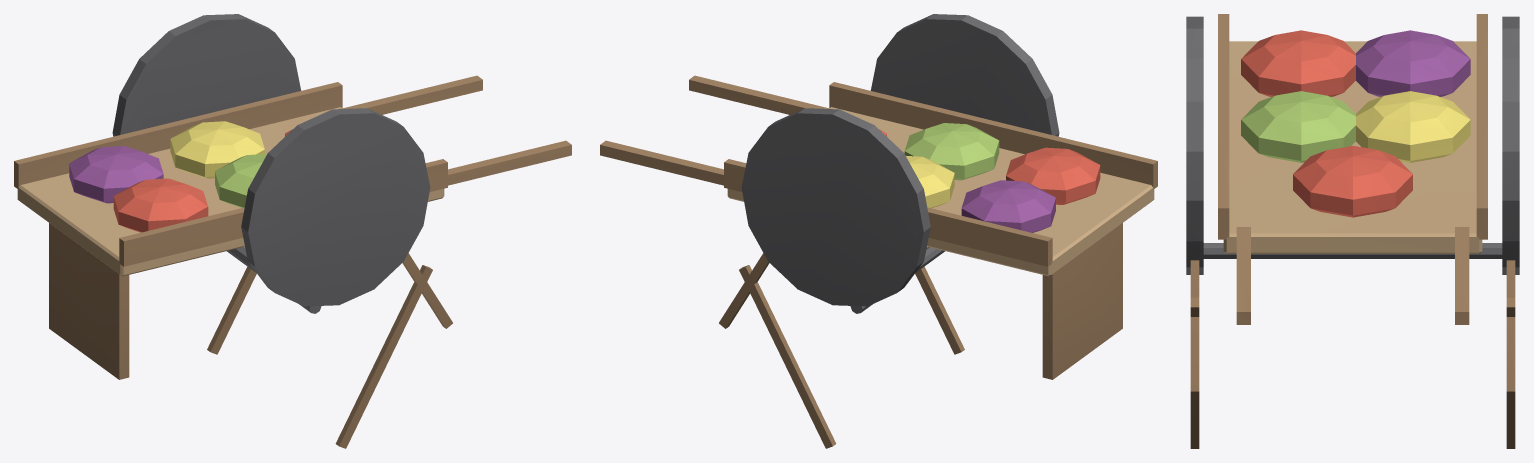
Rendered from handcart.glb.
The picture shows the model from 3 angles, left to right: view 1: azimuth 30°, elevation 25°; view 2: azimuth 150°, elevation 25°; view 3: azimuth 270°, elevation 25°; orthographic projection. The views are drawn at different scales.
Parts seen in each view (by area): view 1: Cube, wheelL_mesh, wheelR_mesh; view 2: Cube, wheelR_mesh, wheelL_mesh; view 3: Cube, wheelL_mesh, wheelR_mesh.
Boxes of the visible parts, x1,y1,x2,y2 form: Cube: (14,75,571,379); wheelL_mesh: (241,108,452,448); wheelR_mesh: (112,14,301,354); Cube: (600,75,1157,379); wheelR_mesh: (719,108,930,448); wheelL_mesh: (870,14,1059,354); Cube: (1203,14,1502,324); wheelL_mesh: (1186,16,1203,448); wheelR_mesh: (1502,16,1519,448).
Size of the model in its own units: 2.25 by 1.59 by 1.16.
